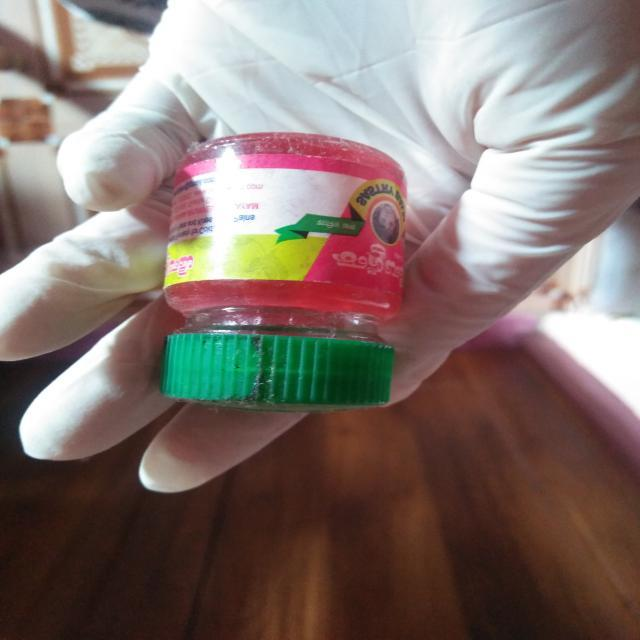gloved_hand: (3, 3, 634, 507)
